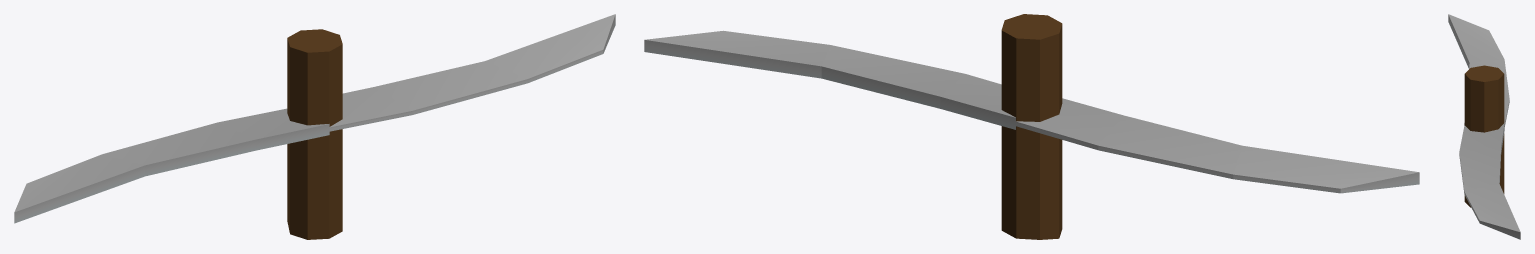
Rendered from blades.glb.
3 renders of one model, left to right at view 1: azimuth 30°, elevation 25°; view 2: azimuth 150°, elevation 25°; view 3: azimuth 270°, elevation 25°, orthographic. The views are drawn at different scales.
Parts seen in each view (by area): view 1: blade, axis; view 2: blade, axis; view 3: blade, axis.
Part boxes in pixels (x1,y1,x2,y2): blade: (14, 14, 615, 223); axis: (287, 29, 342, 239); blade: (644, 30, 1419, 193); axis: (1001, 14, 1062, 239); blade: (1448, 14, 1520, 239); axis: (1464, 65, 1504, 207).
Bounding box in the file's own units: 3.56 × 0.9733 × 0.4998.
Materials: 1 (1 with a texture image).
